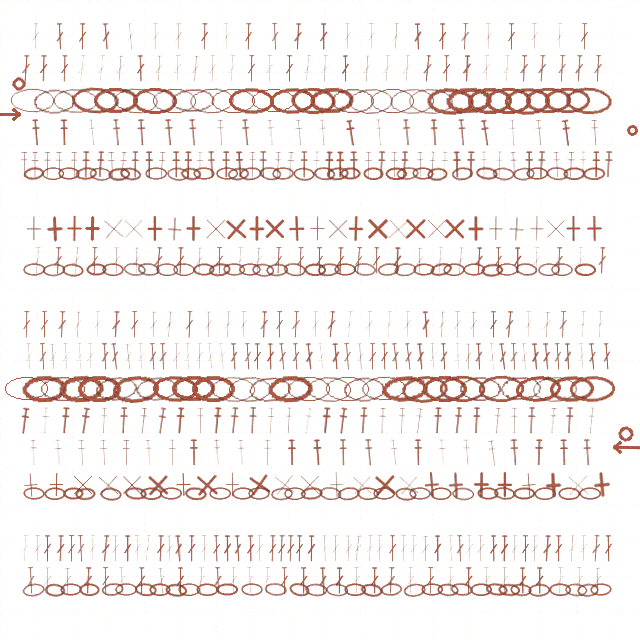chain: (111, 374, 160, 404), (514, 374, 562, 404), (93, 374, 140, 404), (246, 374, 293, 404), (381, 374, 428, 404), (401, 374, 448, 404), (71, 86, 119, 115), (112, 86, 160, 115), (134, 374, 180, 404), (169, 86, 216, 115), (188, 86, 235, 115), (290, 86, 337, 115), (445, 86, 492, 115), (565, 86, 612, 115), (360, 374, 407, 403), (347, 87, 395, 115), (426, 87, 474, 115), (531, 375, 579, 403), (309, 86, 355, 115), (21, 374, 67, 403), (58, 374, 104, 403), (267, 374, 313, 403), (498, 374, 544, 403), (228, 87, 275, 115), (407, 87, 454, 115), (504, 87, 551, 115), (569, 375, 616, 403), (52, 87, 98, 115), (269, 87, 315, 115), (389, 87, 435, 115), (152, 375, 198, 403), (210, 375, 256, 403), (227, 375, 273, 403), (306, 375, 352, 403), (549, 375, 595, 403), (9, 87, 56, 114), (210, 87, 257, 114), (3, 375, 50, 402), (39, 375, 86, 402), (439, 375, 486, 402), (32, 87, 77, 115), (342, 375, 387, 403), (93, 87, 139, 114), (151, 87, 197, 114), (250, 87, 296, 114), (330, 87, 376, 114), (369, 87, 415, 114), (467, 87, 513, 114), (485, 87, 531, 114), (525, 87, 571, 114), (544, 87, 590, 114), (324, 375, 370, 402), (422, 375, 468, 402), (478, 375, 524, 402), (132, 87, 177, 114), (77, 375, 122, 402), (171, 375, 216, 402), (191, 375, 236, 402), (286, 375, 331, 402), (458, 375, 503, 402), (429, 261, 453, 278), (288, 581, 311, 598), (119, 166, 142, 182), (22, 582, 45, 598), (360, 582, 383, 598), (403, 582, 426, 598), (75, 166, 98, 181), (239, 166, 262, 181), (259, 166, 282, 181), (313, 166, 336, 181), (326, 166, 349, 181), (396, 166, 419, 181), (451, 166, 474, 181), (475, 166, 498, 181), (546, 166, 569, 181), (123, 262, 146, 277), (137, 262, 160, 277), (208, 262, 231, 277), (283, 262, 306, 277), (317, 262, 340, 277), (353, 262, 376, 277), (377, 262, 400, 277), (394, 262, 417, 277), (515, 262, 538, 277), (124, 486, 147, 501), (184, 486, 207, 501), (300, 486, 323, 501), (319, 486, 342, 501), (337, 486, 360, 501), (493, 486, 516, 501), (101, 582, 124, 597), (134, 582, 157, 597), (264, 582, 287, 597), (380, 582, 403, 597), (450, 582, 473, 597), (485, 582, 508, 597), (23, 166, 45, 181), (89, 167, 112, 181), (227, 167, 250, 181), (492, 167, 515, 181), (108, 167, 130, 181), (167, 167, 189, 181), (180, 167, 202, 181), (293, 167, 315, 181), (513, 167, 535, 181), (43, 263, 65, 277), (62, 263, 84, 277), (252, 263, 274, 277), (266, 263, 288, 277), (481, 263, 503, 277), (100, 487, 122, 501), (271, 487, 293, 501), (395, 487, 417, 501), (452, 487, 474, 501), (44, 583, 66, 597), (165, 583, 187, 597), (305, 583, 327, 597), (326, 583, 348, 597), (437, 583, 459, 597), (498, 583, 520, 597), (510, 583, 532, 597), (528, 583, 550, 597), (565, 583, 587, 597), (577, 583, 599, 597), (427, 167, 448, 181), (75, 487, 96, 501), (42, 167, 64, 180), (58, 167, 80, 180), (145, 167, 167, 180), (193, 167, 215, 180), (216, 167, 238, 180), (272, 167, 294, 180), (385, 167, 407, 180), (412, 167, 434, 180), (526, 167, 548, 180), (563, 167, 585, 180), (583, 167, 605, 180), (23, 263, 45, 276), (102, 263, 124, 276), (156, 263, 178, 276), (173, 263, 195, 276), (193, 263, 215, 276), (223, 263, 245, 276), (239, 263, 261, 276), (304, 263, 326, 276), (334, 263, 356, 276), (413, 263, 435, 276), (443, 263, 465, 276), (463, 263, 485, 276), (496, 263, 518, 276), (538, 263, 560, 276), (551, 263, 573, 276), (574, 263, 596, 276), (23, 487, 45, 500), (44, 487, 66, 500), (140, 487, 162, 500), (160, 487, 182, 500), (209, 487, 231, 500), (232, 487, 254, 500), (248, 487, 270, 500), (284, 487, 306, 500), (357, 487, 379, 500), (373, 487, 395, 500), (409, 487, 431, 500), (430, 487, 452, 500), (477, 487, 499, 500), (513, 487, 535, 500), (534, 487, 556, 500), (558, 487, 580, 500), (579, 487, 601, 500), (60, 583, 82, 596), (115, 583, 137, 596), (149, 583, 171, 596), (178, 583, 200, 596), (196, 583, 218, 596), (216, 583, 238, 596), (241, 583, 263, 596), (344, 583, 366, 596), (421, 583, 443, 596), (470, 583, 492, 596), (549, 583, 571, 596), (590, 583, 612, 596), (340, 167, 361, 180), (363, 167, 384, 180), (86, 263, 107, 276), (63, 487, 84, 500), (79, 583, 100, 596)
double: (76, 55, 88, 82), (109, 343, 121, 370), (216, 343, 228, 370), (497, 343, 509, 370), (125, 23, 136, 50), (96, 55, 107, 82), (190, 55, 201, 82), (302, 55, 313, 82), (422, 55, 433, 82), (32, 247, 43, 274), (71, 247, 82, 274), (153, 247, 164, 274), (353, 247, 364, 274), (455, 247, 466, 274), (164, 311, 175, 338), (326, 311, 337, 338), (344, 311, 355, 338), (504, 311, 515, 338), (123, 343, 134, 370), (205, 343, 216, 370), (277, 343, 288, 370), (304, 343, 315, 370), (316, 343, 327, 370), (342, 343, 353, 370), (355, 343, 366, 370), (390, 343, 401, 370), (403, 343, 414, 370), (415, 343, 426, 370), (487, 343, 498, 370), (519, 343, 530, 370), (530, 343, 541, 370), (541, 343, 552, 370), (587, 343, 598, 370), (100, 535, 111, 562), (142, 535, 153, 562), (173, 535, 184, 562), (352, 535, 363, 562), (156, 567, 167, 594), (55, 23, 65, 50), (101, 23, 111, 50), (270, 23, 280, 50), (293, 23, 303, 50), (391, 23, 401, 50), (413, 23, 423, 50), (460, 23, 470, 50), (21, 55, 31, 82), (115, 55, 125, 82), (154, 55, 164, 82), (227, 55, 237, 82), (320, 55, 330, 82), (362, 55, 372, 82), (382, 55, 392, 82), (402, 55, 412, 82), (462, 55, 472, 82), (502, 55, 512, 82), (519, 55, 529, 82), (537, 55, 547, 82), (557, 55, 567, 82), (574, 55, 584, 82), (593, 55, 603, 82), (53, 247, 63, 274), (235, 247, 245, 274), (253, 247, 263, 274), (435, 247, 445, 274), (474, 247, 484, 274), (554, 247, 564, 274), (597, 247, 607, 274), (57, 311, 67, 338), (73, 311, 83, 338), (111, 311, 121, 338), (223, 311, 233, 338), (259, 311, 269, 338), (291, 311, 301, 338), (384, 311, 394, 338), (421, 311, 431, 338), (437, 311, 447, 338), (542, 311, 552, 338), (558, 311, 568, 338), (578, 311, 588, 338), (595, 311, 605, 338), (24, 343, 34, 370), (38, 343, 48, 370), (48, 343, 58, 370), (61, 343, 71, 370), (75, 343, 85, 370), (100, 343, 110, 370), (136, 343, 146, 370), (148, 343, 158, 370), (158, 343, 168, 370), (183, 343, 193, 370), (229, 343, 239, 370), (243, 343, 253, 370), (291, 343, 301, 370), (331, 343, 341, 370), (428, 343, 438, 370), (439, 343, 449, 370), (453, 343, 463, 370), (474, 343, 484, 370), (509, 343, 519, 370), (553, 343, 563, 370), (563, 343, 573, 370), (577, 343, 587, 370), (602, 343, 612, 370), (20, 535, 30, 562), (76, 535, 86, 562), (233, 535, 243, 562), (320, 535, 330, 562), (365, 535, 375, 562), (446, 535, 456, 562), (455, 535, 465, 562), (542, 535, 552, 562), (567, 535, 577, 562), (591, 535, 601, 562), (26, 567, 36, 594), (83, 567, 93, 594), (117, 567, 127, 594), (196, 567, 206, 594), (213, 567, 223, 594), (245, 567, 255, 594), (262, 567, 272, 594), (318, 567, 328, 594), (386, 567, 396, 594), (555, 567, 565, 594), (31, 23, 40, 50), (78, 23, 87, 50), (151, 23, 160, 50), (174, 23, 183, 50), (200, 23, 209, 50), (222, 23, 231, 50), (244, 23, 253, 50), (319, 23, 328, 50), (343, 23, 352, 50), (367, 23, 376, 50), (438, 23, 447, 50), (484, 23, 493, 50), (507, 23, 516, 50), (530, 23, 539, 50), (555, 23, 564, 50), (580, 23, 589, 50), (39, 55, 48, 82), (60, 55, 69, 82), (136, 55, 145, 82), (173, 55, 182, 82), (208, 55, 217, 82), (247, 55, 256, 82), (265, 55, 274, 82), (285, 55, 294, 82), (341, 55, 350, 82), (442, 55, 451, 82), (482, 55, 491, 82), (90, 247, 99, 274), (112, 247, 121, 274), (132, 247, 141, 274), (176, 247, 185, 274), (195, 247, 204, 274), (215, 247, 224, 274), (274, 247, 283, 274), (296, 247, 305, 274), (315, 247, 324, 274), (336, 247, 345, 274), (372, 247, 381, 274), (393, 247, 402, 274), (415, 247, 424, 274), (494, 247, 503, 274), (513, 247, 522, 274), (532, 247, 541, 274), (576, 247, 585, 274), (22, 311, 31, 338), (40, 311, 49, 338), (93, 311, 102, 338), (130, 311, 139, 338), (149, 311, 158, 338), (185, 311, 194, 338), (204, 311, 213, 338), (239, 311, 248, 338), (275, 311, 284, 338), (311, 311, 320, 338), (365, 311, 374, 338), (403, 311, 412, 338), (453, 311, 462, 338), (469, 311, 478, 338), (489, 311, 498, 338), (524, 311, 533, 338), (86, 343, 95, 370), (172, 343, 181, 370), (195, 343, 204, 370), (253, 343, 262, 370), (266, 343, 275, 370), (368, 343, 377, 370), (380, 343, 389, 370), (464, 343, 473, 370), (33, 535, 42, 562), (43, 535, 52, 562), (56, 535, 65, 562), (67, 535, 76, 562), (88, 535, 97, 562), (111, 535, 120, 562), (123, 535, 132, 562), (133, 535, 142, 562), (156, 535, 165, 562), (165, 535, 174, 562), (187, 535, 196, 562), (200, 535, 209, 562), (212, 535, 221, 562), (223, 535, 232, 562), (246, 535, 255, 562), (255, 535, 264, 562), (268, 535, 277, 562), (277, 535, 286, 562), (286, 535, 295, 562), (295, 535, 304, 562), (307, 535, 316, 562), (331, 535, 340, 562), (344, 535, 353, 562), (375, 535, 384, 562), (388, 535, 397, 562), (399, 535, 408, 562), (409, 535, 418, 562), (421, 535, 430, 562), (433, 535, 442, 562), (465, 535, 474, 562), (476, 535, 485, 562), (489, 535, 498, 562), (500, 535, 509, 562), (510, 535, 519, 562), (521, 535, 530, 562), (530, 535, 539, 562), (554, 535, 563, 562), (579, 535, 588, 562), (604, 535, 613, 562), (43, 567, 52, 594), (63, 567, 72, 594), (101, 567, 110, 594), (137, 567, 146, 594), (176, 567, 185, 594), (229, 567, 238, 594), (280, 567, 289, 594), (299, 567, 308, 594), (335, 567, 344, 594), (352, 567, 361, 594), (370, 567, 379, 594), (406, 567, 415, 594), (426, 567, 435, 594), (446, 567, 455, 594), (464, 567, 473, 594), (482, 567, 491, 594), (500, 567, 509, 594), (518, 567, 527, 594), (535, 567, 544, 594), (575, 567, 584, 594), (593, 567, 602, 594)
half_double: (344, 119, 358, 147), (78, 407, 92, 435), (301, 407, 315, 435), (479, 119, 492, 147), (560, 119, 573, 147), (18, 407, 31, 435), (155, 407, 168, 435), (336, 407, 349, 435), (412, 407, 425, 435), (486, 439, 499, 467), (30, 119, 42, 146), (86, 119, 98, 146), (111, 119, 123, 146), (163, 119, 175, 146), (187, 119, 199, 146), (240, 119, 252, 146), (265, 119, 277, 146), (293, 119, 305, 146), (316, 119, 328, 146), (373, 119, 385, 146), (401, 119, 413, 146), (456, 119, 468, 146), (533, 119, 545, 146), (117, 151, 129, 178), (426, 151, 438, 178), (508, 151, 520, 178), (59, 407, 71, 434), (137, 407, 149, 434), (174, 407, 186, 434), (211, 407, 223, 434), (228, 407, 240, 434), (320, 407, 332, 434), (452, 407, 464, 434), (491, 407, 503, 434), (547, 407, 559, 434), (585, 407, 597, 434), (143, 439, 155, 466), (363, 439, 375, 466), (388, 439, 400, 466), (136, 119, 147, 146), (215, 119, 226, 146), (429, 119, 440, 146), (507, 119, 518, 146), (589, 119, 600, 146), (95, 151, 106, 178), (106, 151, 117, 178), (156, 151, 167, 178), (206, 151, 217, 178), (234, 151, 245, 178), (272, 151, 283, 178), (285, 151, 296, 178), (311, 151, 322, 178), (376, 151, 387, 178), (399, 151, 410, 178), (439, 151, 450, 178), (536, 151, 547, 178), (551, 151, 562, 178), (565, 151, 576, 178), (603, 151, 614, 178), (40, 407, 51, 434), (98, 407, 109, 434), (118, 407, 129, 434), (247, 407, 258, 434), (265, 407, 276, 434), (283, 407, 294, 434), (358, 407, 369, 434), (377, 407, 388, 434), (396, 407, 407, 434), (432, 407, 443, 434), (471, 407, 482, 434), (526, 407, 537, 434), (564, 407, 575, 434), (28, 439, 39, 466), (53, 439, 64, 466), (76, 439, 87, 466), (98, 439, 109, 466), (212, 439, 223, 466), (236, 439, 247, 466), (312, 439, 323, 466), (437, 439, 448, 466), (461, 439, 472, 466), (509, 439, 520, 466), (582, 439, 593, 466), (59, 119, 69, 146), (19, 151, 29, 178), (30, 151, 40, 178), (42, 151, 52, 178), (54, 151, 64, 178), (69, 151, 79, 178), (81, 151, 91, 178), (130, 151, 140, 178), (144, 151, 154, 178), (171, 151, 181, 178), (183, 151, 193, 178), (195, 151, 205, 178), (221, 151, 231, 178), (247, 151, 257, 178), (258, 151, 268, 178), (299, 151, 309, 178), (324, 151, 334, 178), (335, 151, 345, 178), (349, 151, 359, 178), (363, 151, 373, 178), (389, 151, 399, 178), (415, 151, 425, 178), (452, 151, 462, 178), (466, 151, 476, 178), (479, 151, 489, 178), (494, 151, 504, 178), (524, 151, 534, 178), (578, 151, 588, 178), (591, 151, 601, 178), (195, 407, 205, 434), (509, 407, 519, 434), (121, 439, 131, 466), (167, 439, 177, 466), (189, 439, 199, 466), (262, 439, 272, 466), (287, 439, 297, 466), (338, 439, 348, 466), (413, 439, 423, 466), (534, 439, 544, 466), (559, 439, 569, 466)
noise: (610, 440, 640, 454), (616, 424, 635, 443), (0, 107, 23, 121), (11, 76, 27, 92), (626, 124, 639, 137)
single: (244, 469, 275, 500), (99, 214, 128, 243), (270, 470, 299, 499), (417, 470, 446, 499), (587, 470, 616, 499), (41, 215, 69, 243), (160, 215, 188, 243), (222, 215, 250, 243), (384, 215, 412, 243), (502, 215, 530, 243), (17, 471, 45, 499), (94, 471, 122, 499), (144, 471, 172, 499), (193, 471, 221, 499), (348, 471, 376, 499), (371, 471, 399, 499), (395, 471, 423, 499), (442, 471, 470, 499), (515, 471, 543, 499), (539, 471, 567, 499), (564, 471, 592, 499), (20, 215, 47, 242), (61, 215, 88, 242), (79, 215, 106, 242), (120, 215, 147, 242), (141, 215, 168, 242), (180, 215, 207, 242), (202, 215, 229, 242), (243, 215, 270, 242), (261, 215, 288, 242), (283, 215, 310, 242), (304, 215, 331, 242), (324, 215, 351, 242), (342, 215, 369, 242), (364, 215, 391, 242), (402, 215, 429, 242), (423, 215, 450, 242), (441, 215, 468, 242), (462, 215, 489, 242), (482, 215, 509, 242), (523, 215, 550, 242), (542, 215, 569, 242), (560, 215, 587, 242), (581, 215, 608, 242), (43, 471, 70, 498), (69, 471, 96, 498), (118, 471, 145, 498), (170, 471, 197, 498), (219, 471, 246, 498), (296, 471, 323, 498), (323, 471, 350, 498), (468, 471, 495, 498), (491, 471, 518, 498)
